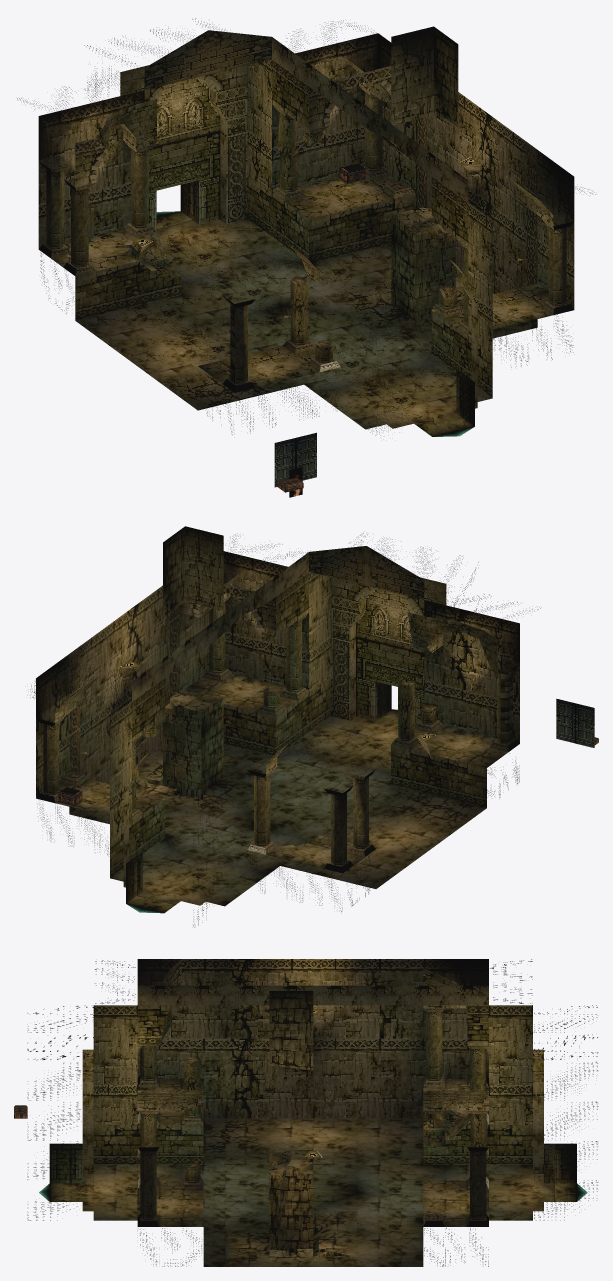
The model's file is MAP135.gltf.
3 renders of one model, top to bottom at view 1: azimuth 30°, elevation 25°; view 2: azimuth 150°, elevation 25°; view 3: azimuth 270°, elevation 25°, orthographic. The views are drawn at different scales.
Size of the model in its own units: 218 by 162 by 341.
139 materials, 139 textured.
